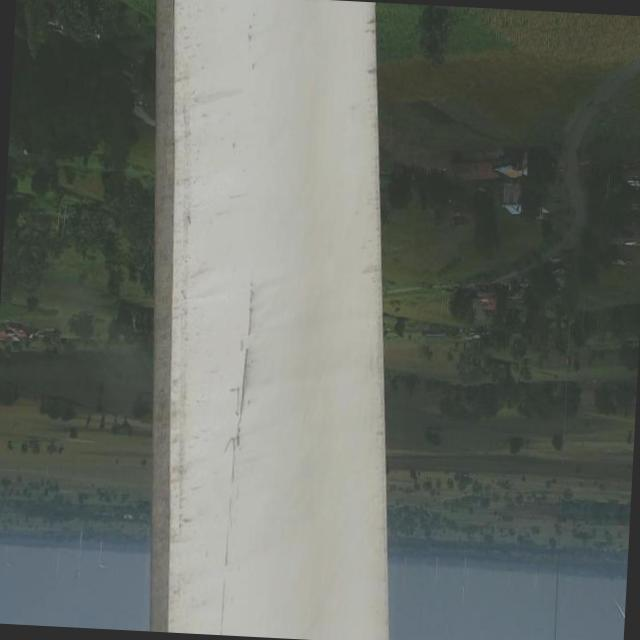Dirt: (150, 0, 379, 634)
